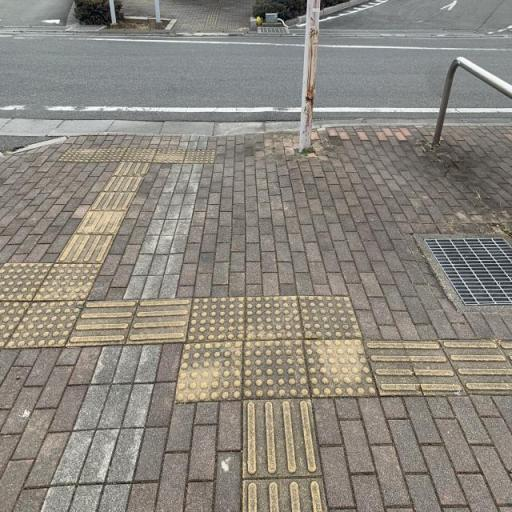dot: (173, 341, 244, 403), (303, 339, 378, 396), (242, 339, 312, 400), (3, 300, 86, 350), (299, 296, 364, 339), (187, 296, 246, 341), (30, 263, 101, 300), (247, 296, 303, 339), (0, 262, 55, 301), (120, 147, 157, 162)
line: (243, 398, 321, 478), (364, 341, 469, 396), (439, 341, 511, 396), (65, 301, 140, 347), (124, 298, 193, 344), (56, 233, 116, 264), (74, 210, 128, 234), (89, 191, 136, 211), (102, 175, 143, 193), (111, 161, 152, 176)
